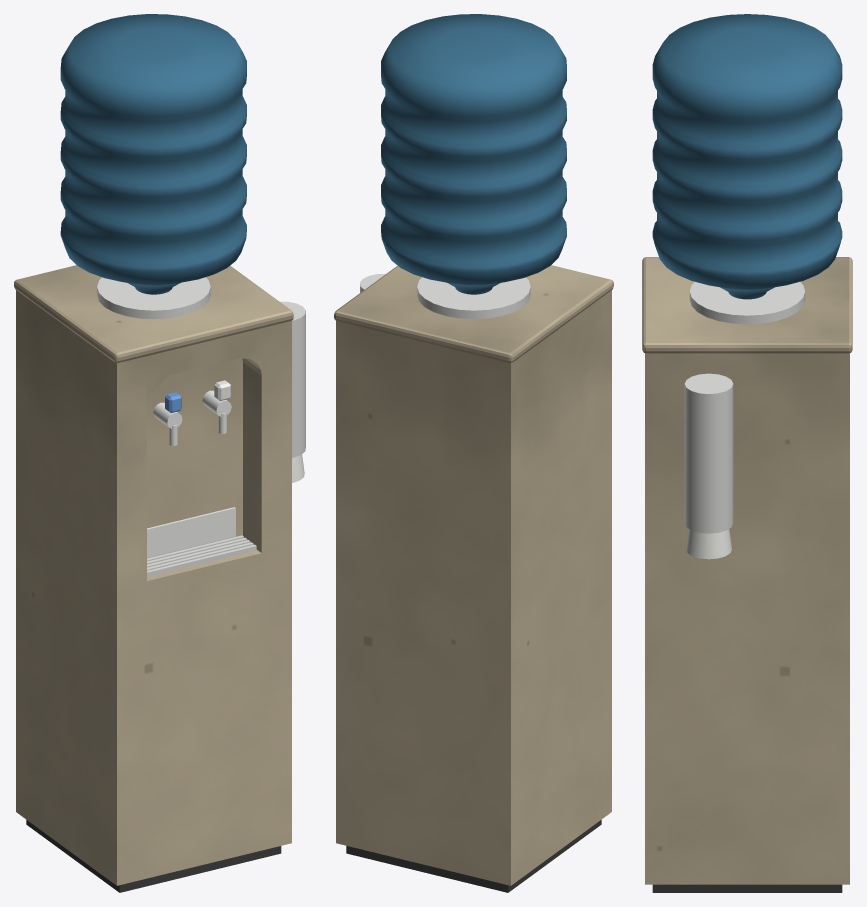
The model's file is water_cooler.glb.
The picture shows the model from 3 angles, left to right: view 1: azimuth 30°, elevation 25°; view 2: azimuth 150°, elevation 25°; view 3: azimuth 270°, elevation 25°; orthographic projection.
Parts seen in each view (by area): view 1: water_cooler; view 2: water_cooler; view 3: water_cooler.
Boxes of the visible parts, left/top/right/bottom form: water_cooler: left=14, top=14, right=305, bottom=892; water_cooler: left=334, top=14, right=613, bottom=892; water_cooler: left=642, top=14, right=852, bottom=892.
Size of the model in its own units: 0.402 by 1.39 by 0.328.
Materials: 7 (1 with a texture image).
